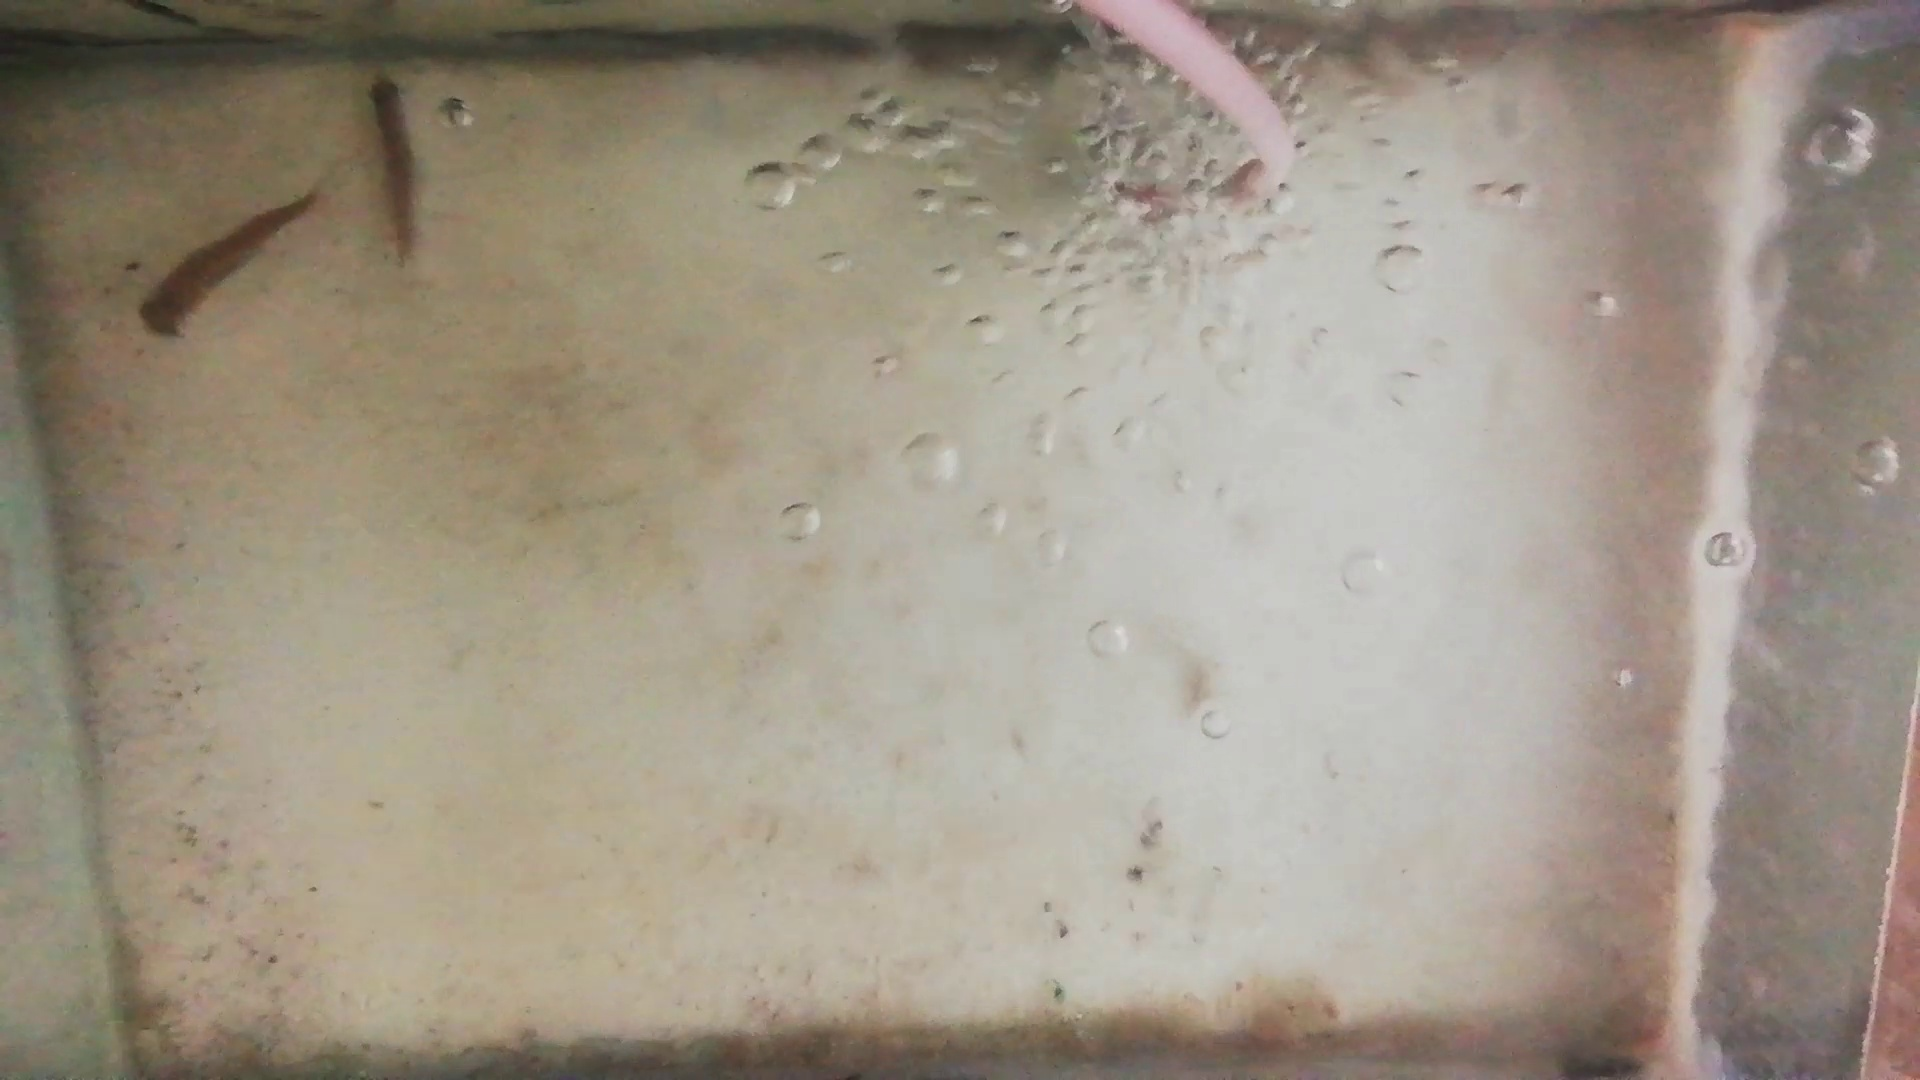fish: (138, 189, 316, 338), (367, 70, 415, 258)
